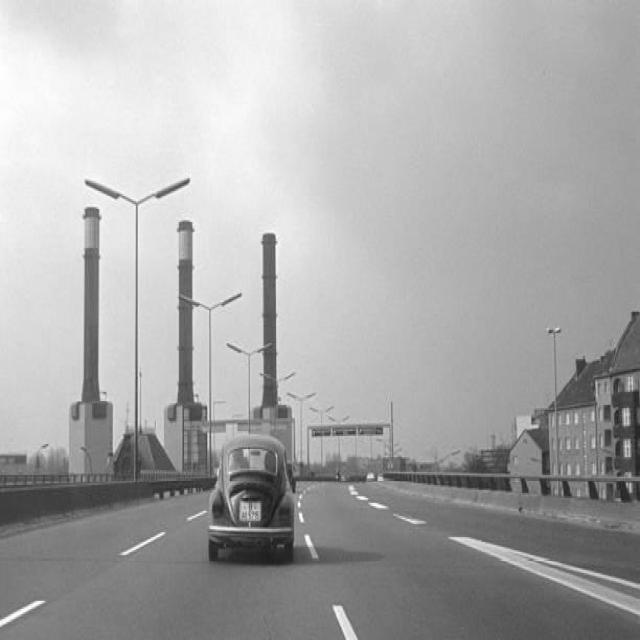car: (209, 431, 293, 553)
